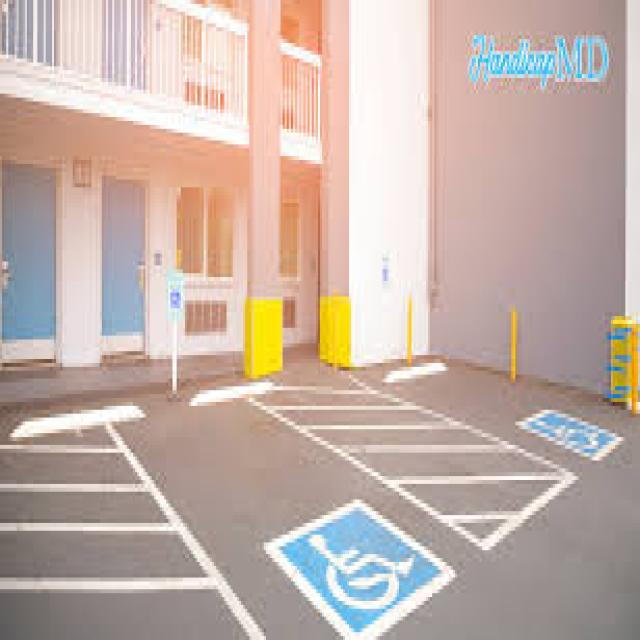car-handicap-placard: (306, 519, 421, 610), (526, 402, 604, 464), (170, 290, 181, 310), (382, 267, 387, 282)
